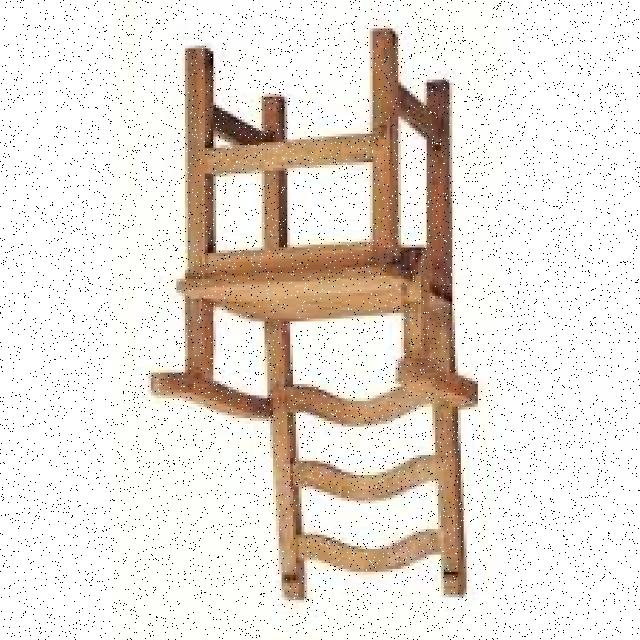bottle: (145, 24, 484, 606)
